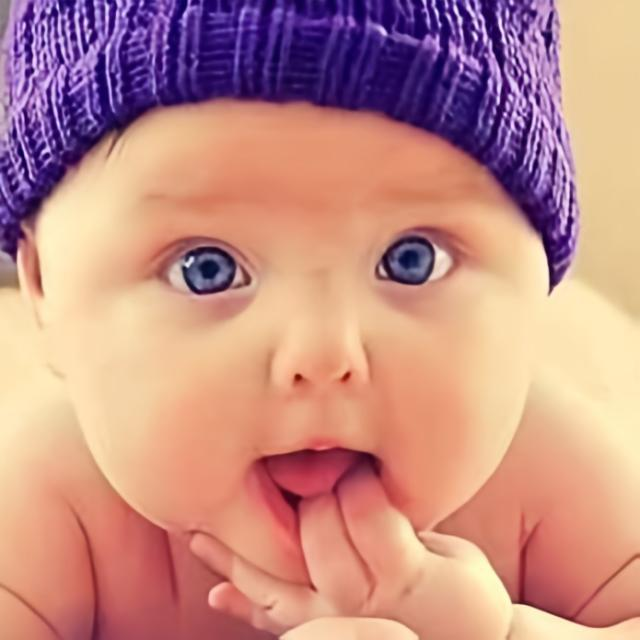surprise: (34, 97, 550, 591)
